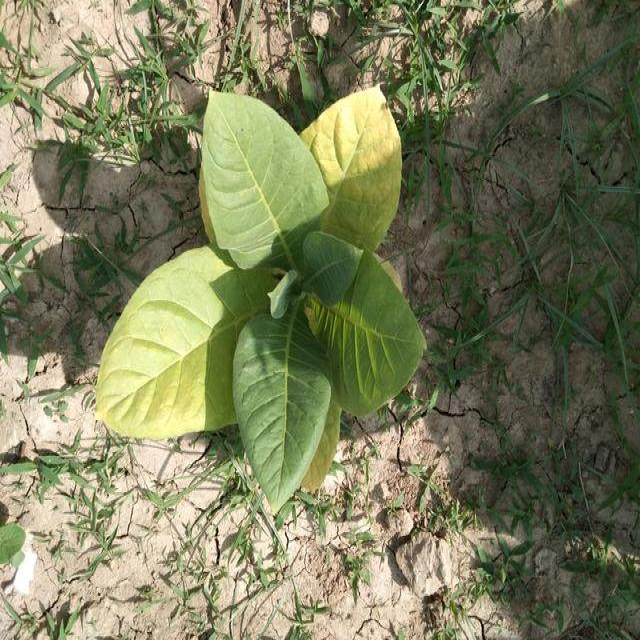crop: (100, 81, 432, 514)
